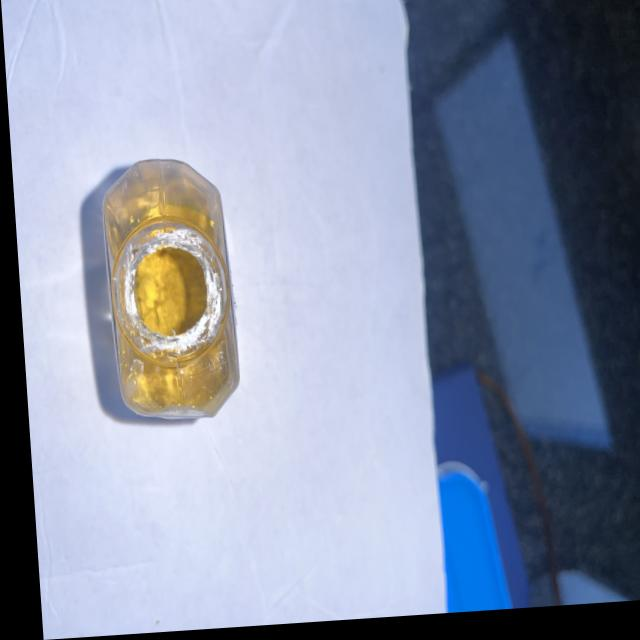curry_powder: (102, 171, 229, 417)
